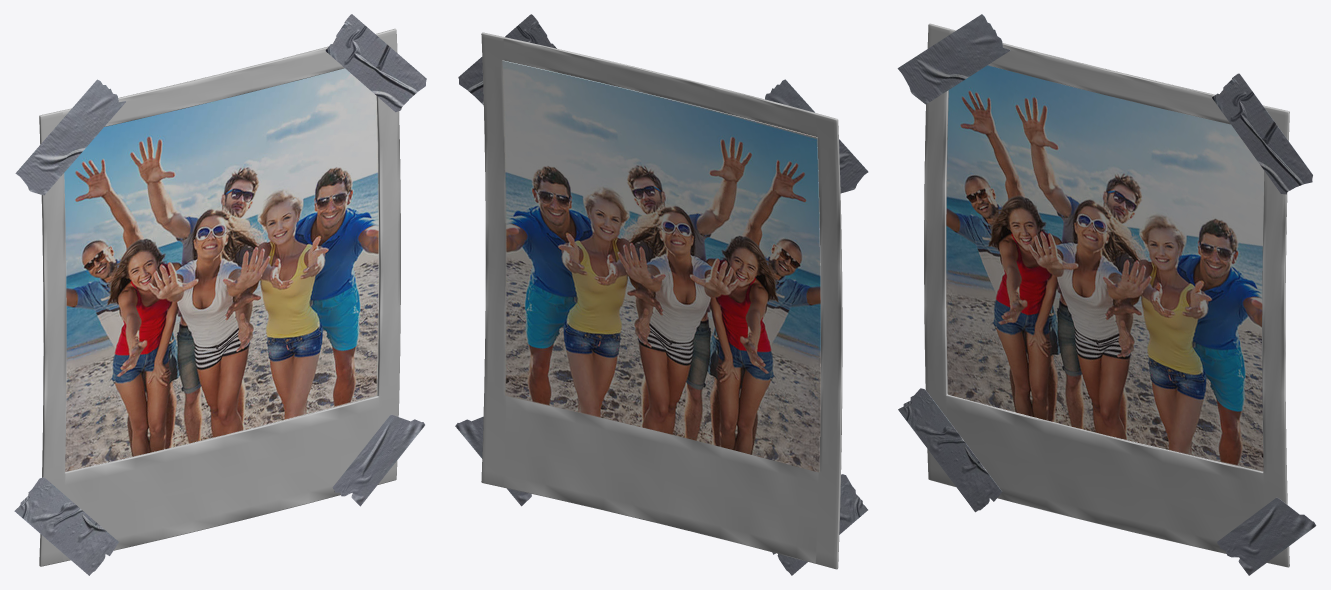
3 renders of one model, left to right at view 1: azimuth 30°, elevation 25°; view 2: azimuth 150°, elevation 25°; view 3: azimuth 330°, elevation 25°, orthographic.
Visible parts, largest first — view 1: Plane007, Plane005, Plane001; view 2: Plane007, Plane005, Plane001; view 3: Plane007, Plane005, Plane001.
Boxes of the visible parts, x1=… form: Plane007: x1=64, y1=68, x2=378, y2=471; Plane005: x1=39, y1=28, x2=400, y2=566; Plane001: x1=14, y1=14, x2=426, y2=575; Plane007: x1=502, y1=60, x2=820, y2=472; Plane005: x1=481, y1=32, x2=842, y2=569; Plane001: x1=455, y1=14, x2=868, y2=575; Plane007: x1=946, y1=65, x2=1264, y2=471; Plane005: x1=924, y1=23, x2=1289, y2=567; Plane001: x1=897, y1=14, x2=1316, y2=575.
Bounding box in the file's own units: 0.0771 × 0.089 × 0.00227.
3 materials, 2 textured.
